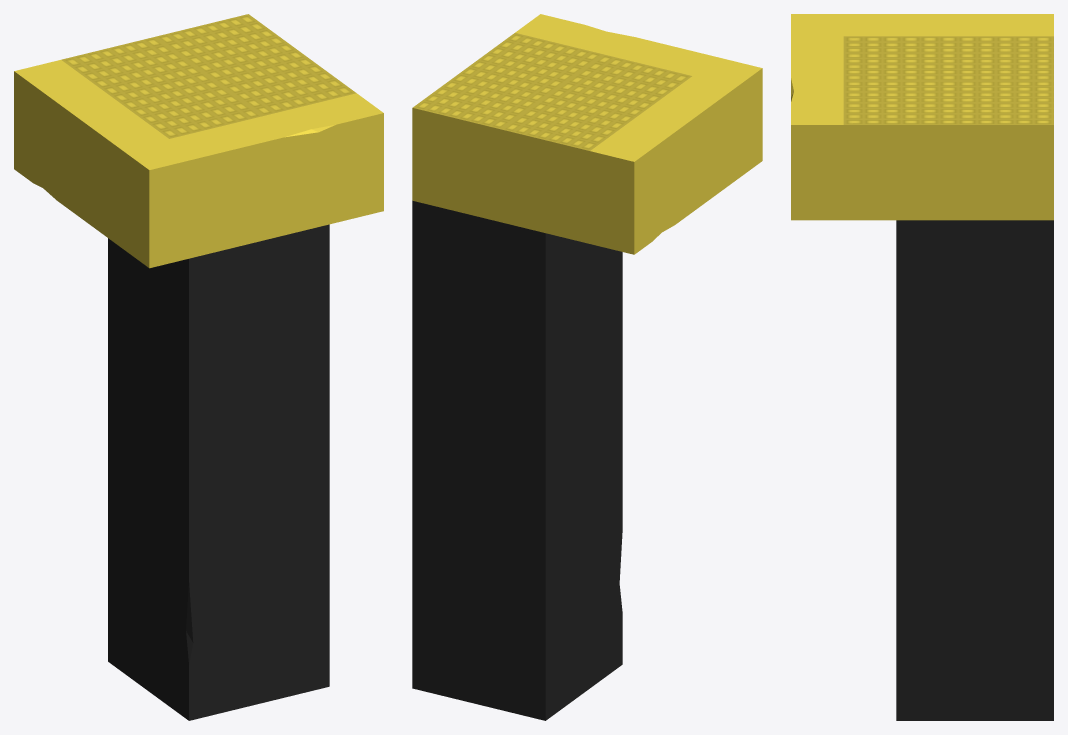
The model's file is SW_ENV_PlatformEdge_A_Crnr_02.fbx.
3 renders of one model, left to right at view 1: azimuth 30°, elevation 25°; view 2: azimuth 150°, elevation 25°; view 3: azimuth 270°, elevation 25°, orthographic. The views are drawn at different scales.
Parts seen in each view (by area): view 1: SW_ENV_PlatformEdge_A_Crnr_02; view 2: SW_ENV_PlatformEdge_A_Crnr_02; view 3: SW_ENV_PlatformEdge_A_Crnr_02.
Boxes of the visible parts, box(x1,y1,x2,y2) form: SW_ENV_PlatformEdge_A_Crnr_02: box(14, 14, 383, 720); SW_ENV_PlatformEdge_A_Crnr_02: box(412, 14, 762, 720); SW_ENV_PlatformEdge_A_Crnr_02: box(791, 14, 1053, 720).
Size of the model in its own units: 50 by 125 by 50.
